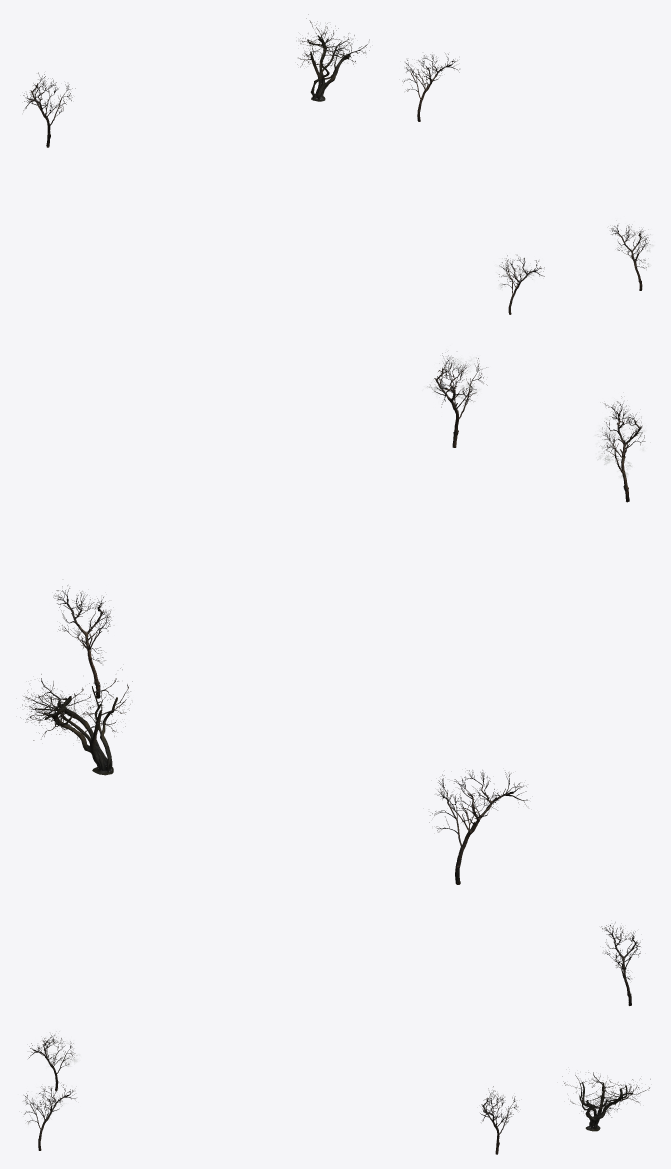
File: trees.glb
The picture shows the model from 3 angles, top to bottom: view 1: azimuth 30°, elevation 25°; view 2: azimuth 150°, elevation 25°; view 3: azimuth 270°, elevation 25°; orthographic projection. The views are drawn at different scales.
Visible parts, largest first — view 1: V|tree|garden|tree_small_02_wood.003, V|tree|garden|tree_small_02_wood.001, V|tree|garden|tree_small_02_wood.004, V|tree|garden|tree_small_02_wood.002; view 2: V|tree|garden|tree_small_02_wood.003, V|tree|garden|tree_small_02_wood.001, V|tree|garden|tree_small_02_wood.004, V|tree|garden|tree_small_02_wood.002; view 3: V|tree|garden|tree_small_02_wood.003, V|tree|garden|tree_small_02_wood.001, V|tree|garden|tree_small_02_wood.002, V|tree|garden|tree_small_02_wood.004.
Boxes of the visible parts, x1,y1,x2,y2 form: V|tree|garden|tree_small_02_wood.003: (23,53,649,287); V|tree|garden|tree_small_02_wood.001: (28,63,644,314); V|tree|garden|tree_small_02_wood.004: (307,35,350,101); V|tree|garden|tree_small_02_wood.002: (297,14,369,70); V|tree|garden|tree_small_02_wood.003: (53,353,645,834); V|tree|garden|tree_small_02_wood.001: (63,368,642,884); V|tree|garden|tree_small_02_wood.004: (35,686,117,775); V|tree|garden|tree_small_02_wood.002: (20,668,132,742); V|tree|garden|tree_small_02_wood.003: (24,922,640,1125); V|tree|garden|tree_small_02_wood.001: (30,931,639,1154); V|tree|garden|tree_small_02_wood.002: (562,1072,650,1117); V|tree|garden|tree_small_02_wood.004: (579,1082,632,1131).
Bounding box in the file's own units: 22.26 × 4.35 × 31.81.
Materials: 6 (6 with a texture image).
